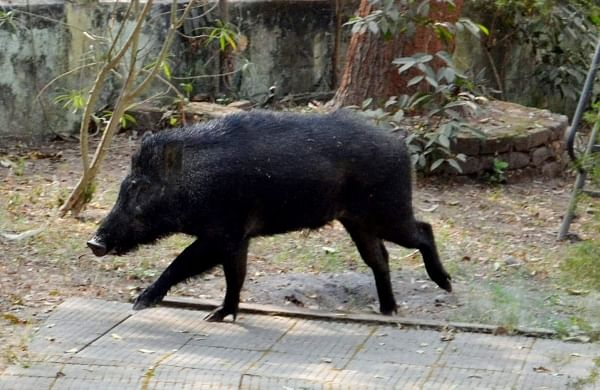boar: (77, 100, 455, 327)
